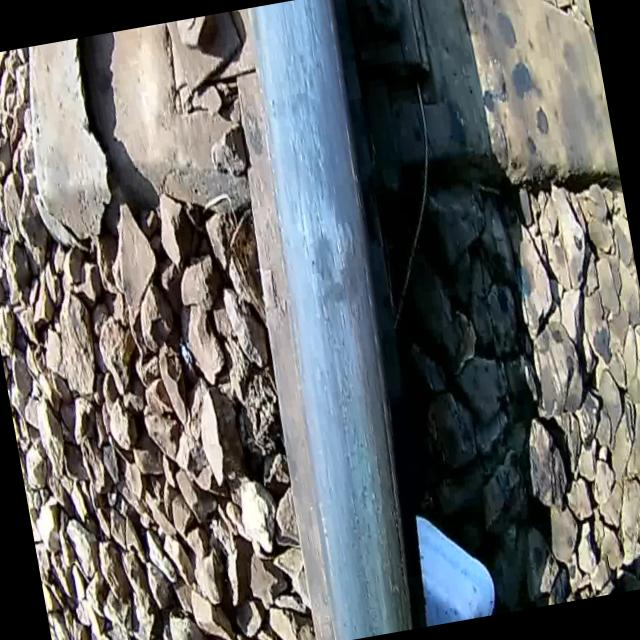Squats: (233, 55, 405, 332)
